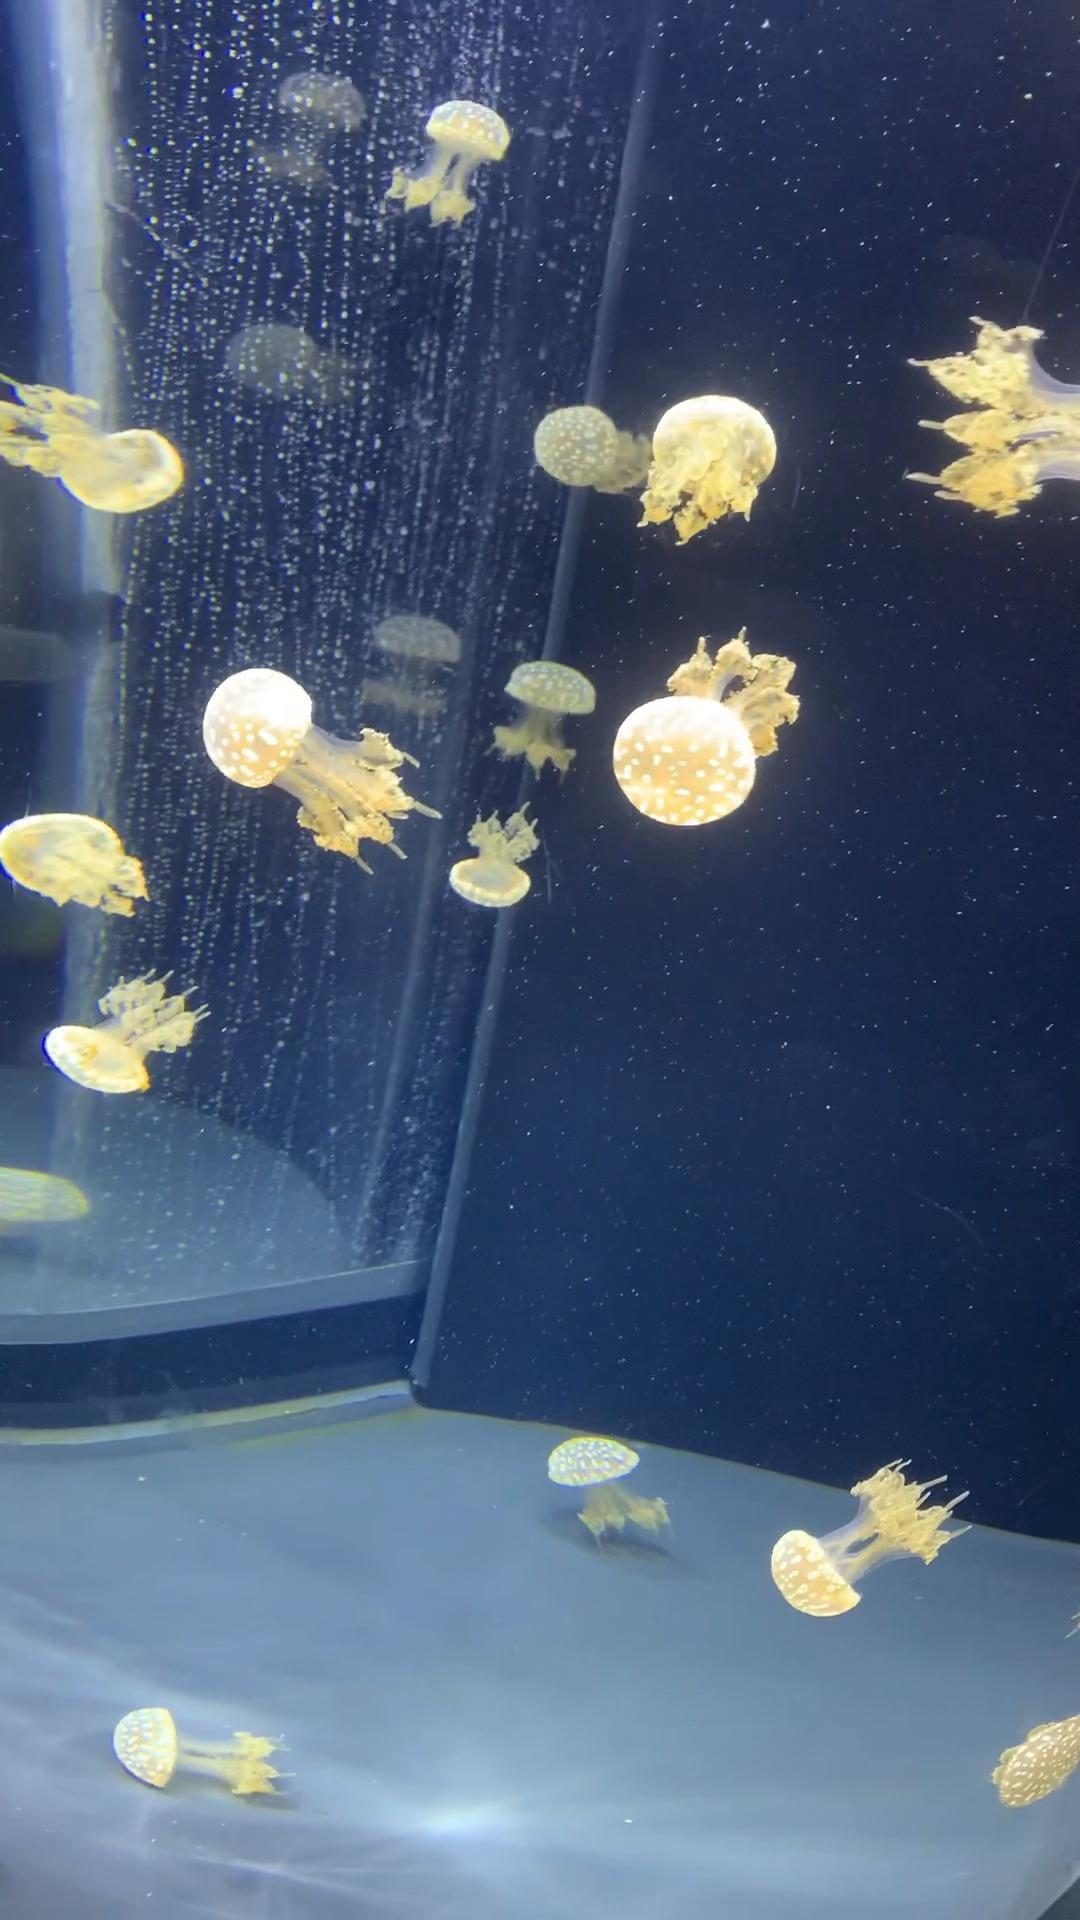jellyfish: (609, 691, 766, 835), (200, 665, 320, 796), (61, 415, 196, 526), (653, 384, 786, 489), (3, 811, 129, 916), (765, 1523, 872, 1630), (37, 1021, 156, 1105), (989, 1701, 1080, 1811), (527, 396, 622, 497), (419, 91, 525, 173), (109, 1700, 186, 1797), (501, 658, 604, 727), (1, 1160, 95, 1233), (543, 1432, 644, 1493), (446, 853, 537, 914)
